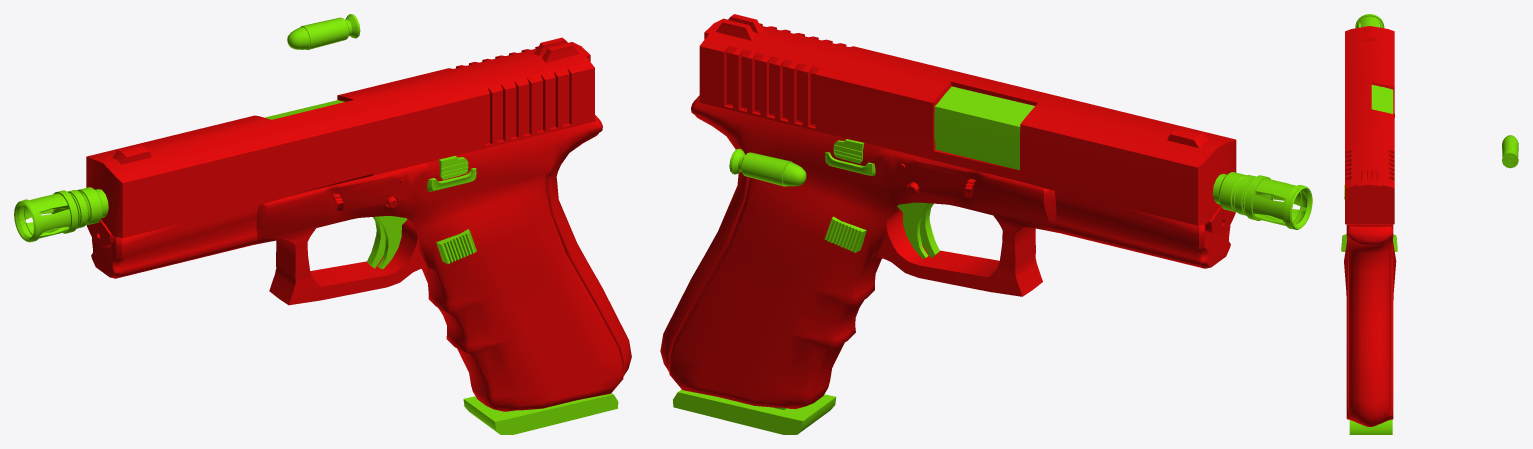
Rendered from pistol glock 22.fbx.
3 views of the same model, side by side, from view 1: azimuth 30°, elevation 25°; view 2: azimuth 150°, elevation 25°; view 3: azimuth 270°, elevation 25° (orthographic). The views are drawn at different scales.
Parts seen in each view (by area): view 1: stock.001, barrel.001, flah hider.001, Magzzine open.001, magazine trigger trigger.001, trigger.001, bullet huls.005; view 2: stock.001, barrel.001, bullet chamber closed.001, flah hider.001, Magzzine open.001, trigger.001, magazine trigger trigger.001, bullet huls.005; view 3: stock.001, barrel.001, bullet chamber closed.001, Magzzine open.001, bullet huls.005, flah hider.001.
Boxes of the visible parts, box(x1,y1,x2,y2) form: stock.001: box(91, 115, 631, 411); barrel.001: box(86, 37, 595, 247); flah hider.001: box(14, 187, 108, 242); Magzzine open.001: box(463, 393, 618, 434); magazine trigger trigger.001: box(427, 168, 476, 264); trigger.001: box(367, 216, 407, 269); bullet huls.005: box(301, 14, 360, 49); stock.001: box(660, 95, 1230, 409); barrel.001: box(698, 14, 1236, 235); bullet chamber closed.001: box(934, 86, 1034, 170); flah hider.001: box(1212, 172, 1312, 229); Magzzine open.001: box(673, 389, 836, 434); trigger.001: box(897, 202, 939, 258); magazine trigger trigger.001: box(824, 152, 875, 252); bullet huls.005: box(729, 148, 792, 186); stock.001: box(1344, 224, 1396, 426); barrel.001: box(1345, 26, 1394, 226); bullet chamber closed.001: box(1371, 85, 1393, 113); Magzzine open.001: box(1349, 419, 1392, 434); bullet huls.005: box(1502, 136, 1518, 168); flah hider.001: box(1355, 14, 1384, 28).
Size of the model in its own units: 0.2909 by 0.1682 by 0.1088.
